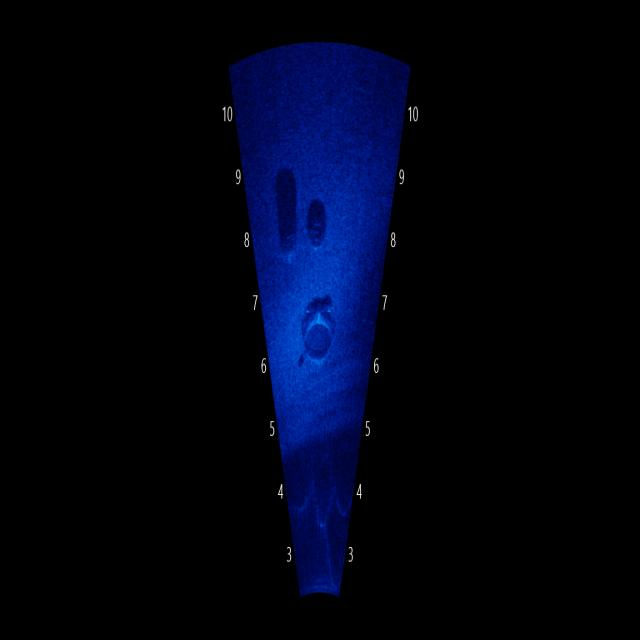circle: (301, 309, 337, 368), (277, 220, 303, 272), (307, 202, 327, 255)
